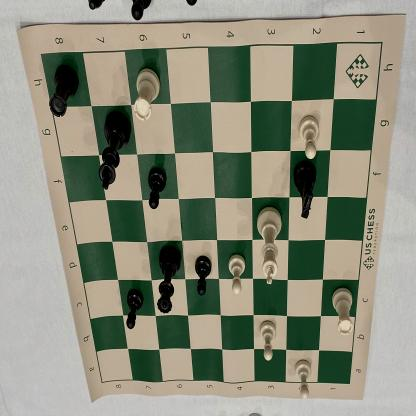black-king: (98, 107, 132, 194)
black-pawn: (146, 164, 170, 212), (193, 254, 213, 297), (125, 288, 144, 332)
black-queen: (154, 243, 184, 317)
black-rook: (49, 63, 80, 120), (292, 161, 318, 220)
white-king: (253, 205, 285, 286)
white-pawn: (298, 114, 322, 160), (227, 252, 248, 298), (294, 358, 315, 401), (258, 317, 278, 362)
white-rook: (133, 63, 162, 122), (330, 285, 358, 337)
